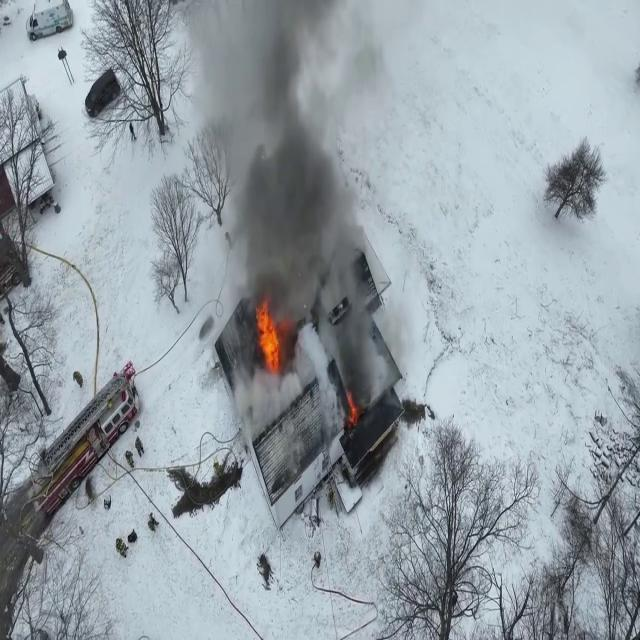Fire: (250, 293, 284, 378)
Smoke: (186, 1, 406, 272), (323, 248, 392, 426)
